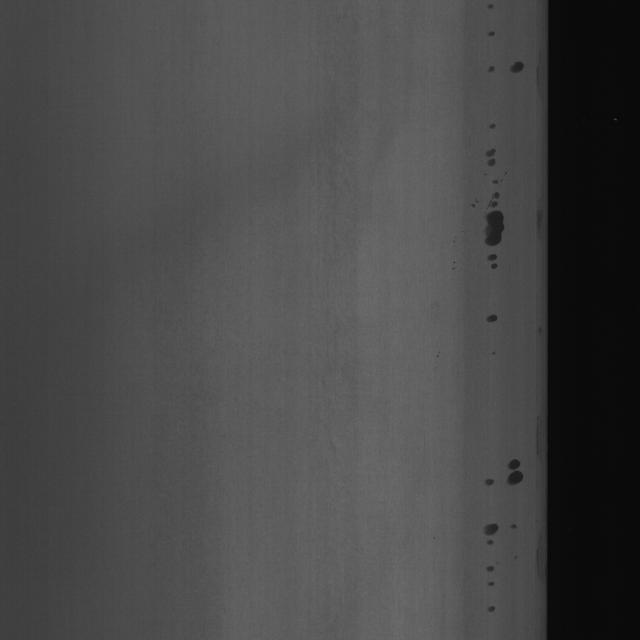welding_line: (478, 0, 508, 334), (481, 455, 534, 626), (507, 38, 528, 85)
